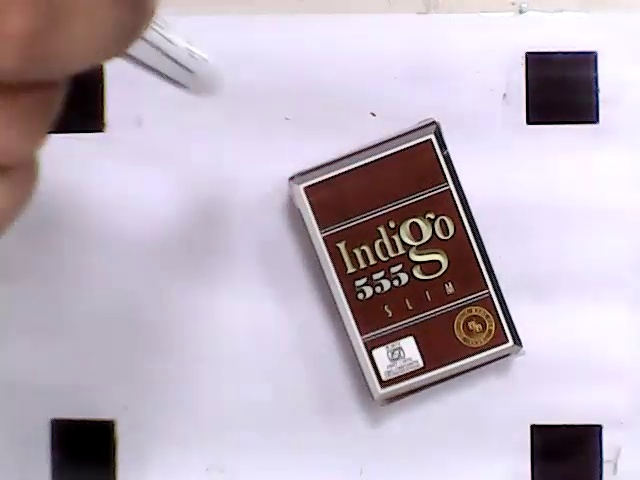BEX: (300, 137, 512, 391)
